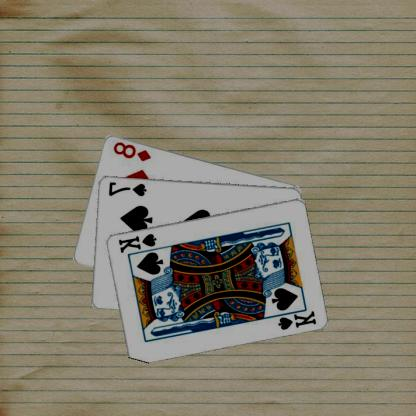7S: (107, 179, 149, 197)
8D: (112, 139, 154, 162)
KS: (272, 305, 318, 331), (118, 231, 160, 254)
